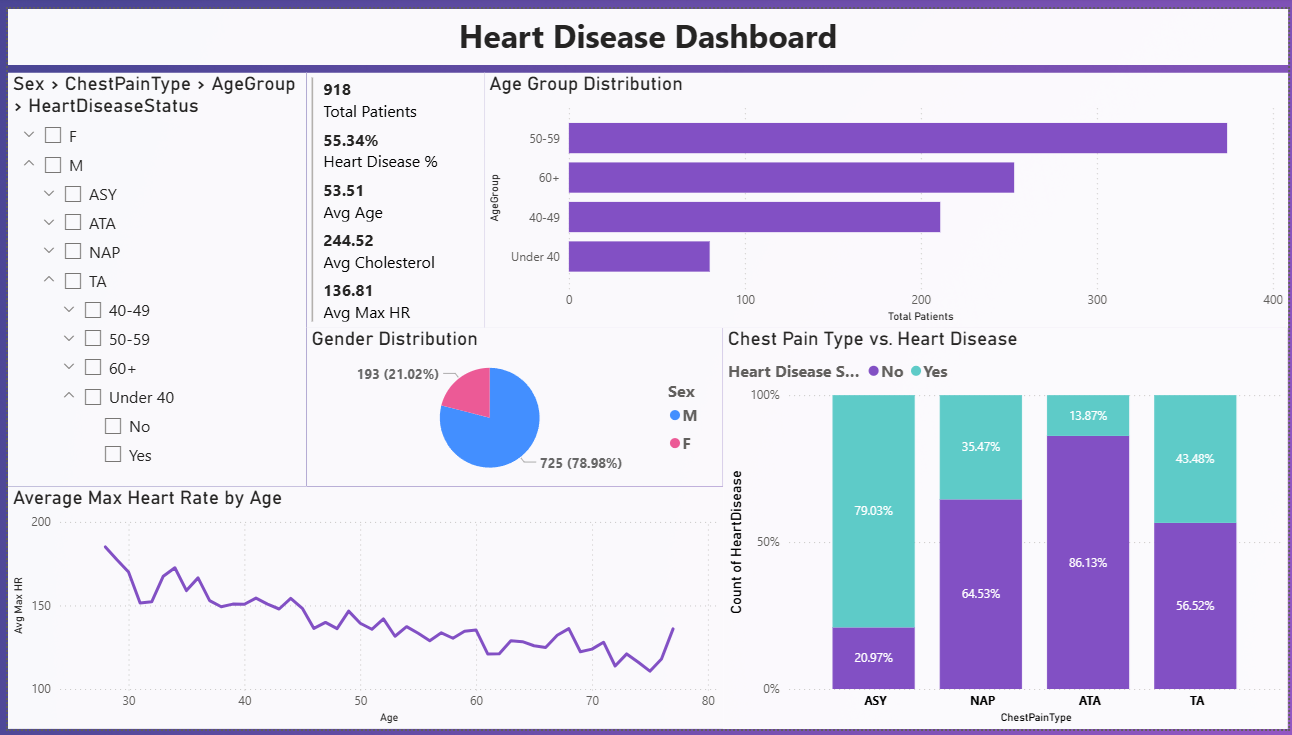

This screenshot's page, from the dashboard's own definition file:
{"tool":"powerbi","page":{"name":"Page 1","canvas":[1280,720],"ordinal":0},"visuals":[{"type":"multiRowCard","fields":{"Values":["df_original.Total Patients","df_original.Heart Disease %","df_original.Avg Age","df_original.Avg Cholesterol","df_original.Avg Max HR"]},"box":[298.8,63.8,177.5,255],"z":0},{"type":"textbox","box":[0,0,1280,56.2],"z":1000},{"type":"pieChart","title":"Gender Distribution","fields":{"Category":["df_original.Sex"],"Y":["df_original.Total Patients"]},"box":[298.8,318.8,416.2,158.8],"z":2000},{"type":"clusteredBarChart","title":"Age Group Distribution","fields":{"Category":["df_original.AgeGroup"],"Y":["df_original.Total Patients"]},"box":[476.2,63.8,803.8,255],"z":3000},{"type":"hundredPercentStackedColumnChart","title":"Chest Pain Type vs. Heart Disease","fields":{"Category":["df_original.ChestPainType"],"Y":["CountNonNull(df_original.HeartDisease)"],"Series":["df_original.Heart Disease Status"]},"box":[715,318.8,565,401.2],"z":4000},{"type":"lineChart","title":"Average Max Heart Rate by Age","fields":{"Category":["df_original.Age"],"Y":["df_original.Avg Max HR"]},"box":[0,477.5,715,242.5],"z":5000},{"type":"slicer","title":"Sex  >  ChestPainType >  AgeGroup > HeartDiseaseStatus","fields":{"Values":["df_original.Sex","df_original.ChestPainType","df_original.AgeGroup","df_original.Heart Disease Status"]},"box":[0,63.8,298.8,413.8],"z":8000}]}

Visuals, with their boxes in screenshot pixels (x1, y1, x2, y2), scaled from the page's 1280x720 canvas onto the 1292x735 screenshot:
multiRowCard - df_original.Total Patients x df_original.Heart Disease %: 302 65 481 325
textbox: 0 0 1291 57
"Gender Distribution" pieChart: 302 325 722 488
"Age Group Distribution" clusteredBarChart: 481 65 1291 325
"Chest Pain Type vs. Heart Disease" hundredPercentStackedColumnChart: 722 325 1291 734
"Average Max Heart Rate by Age" lineChart: 0 487 722 734
"Sex  >  ChestPainType >  AgeGroup > HeartDiseaseStatus" slicer: 0 65 302 488
